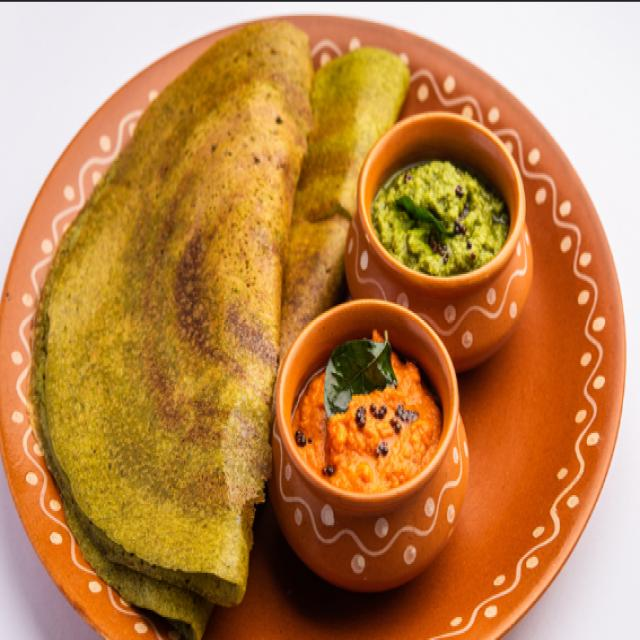DOSA: (29, 34, 406, 637)
GREEN CHUTNEY: (373, 151, 505, 273)
RED CHUTNEY: (295, 320, 451, 486)
